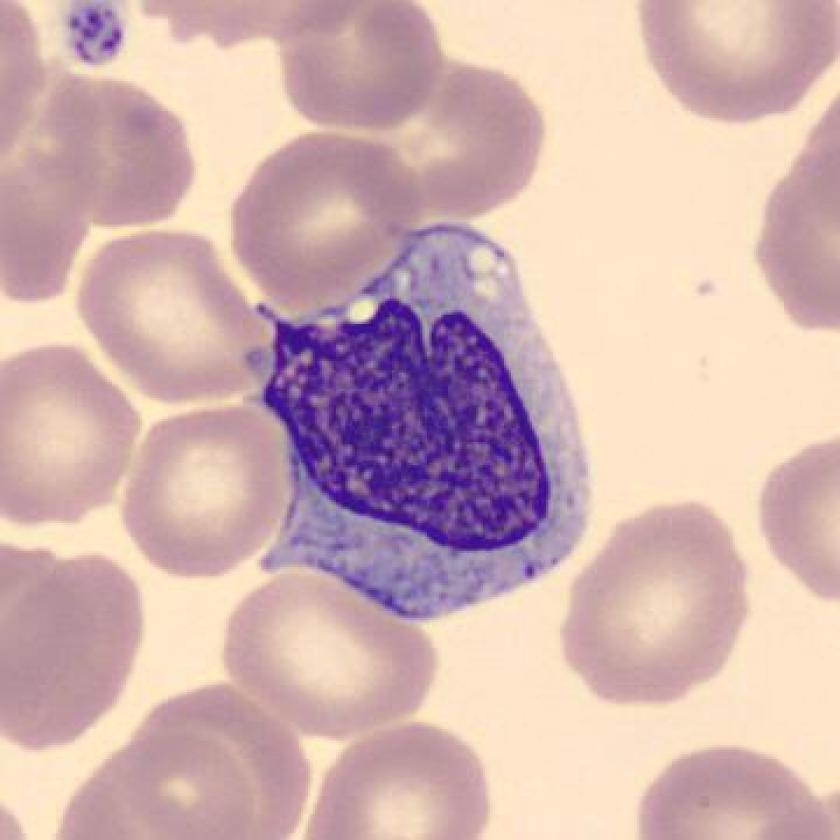monocyte: (220, 205, 617, 635)
